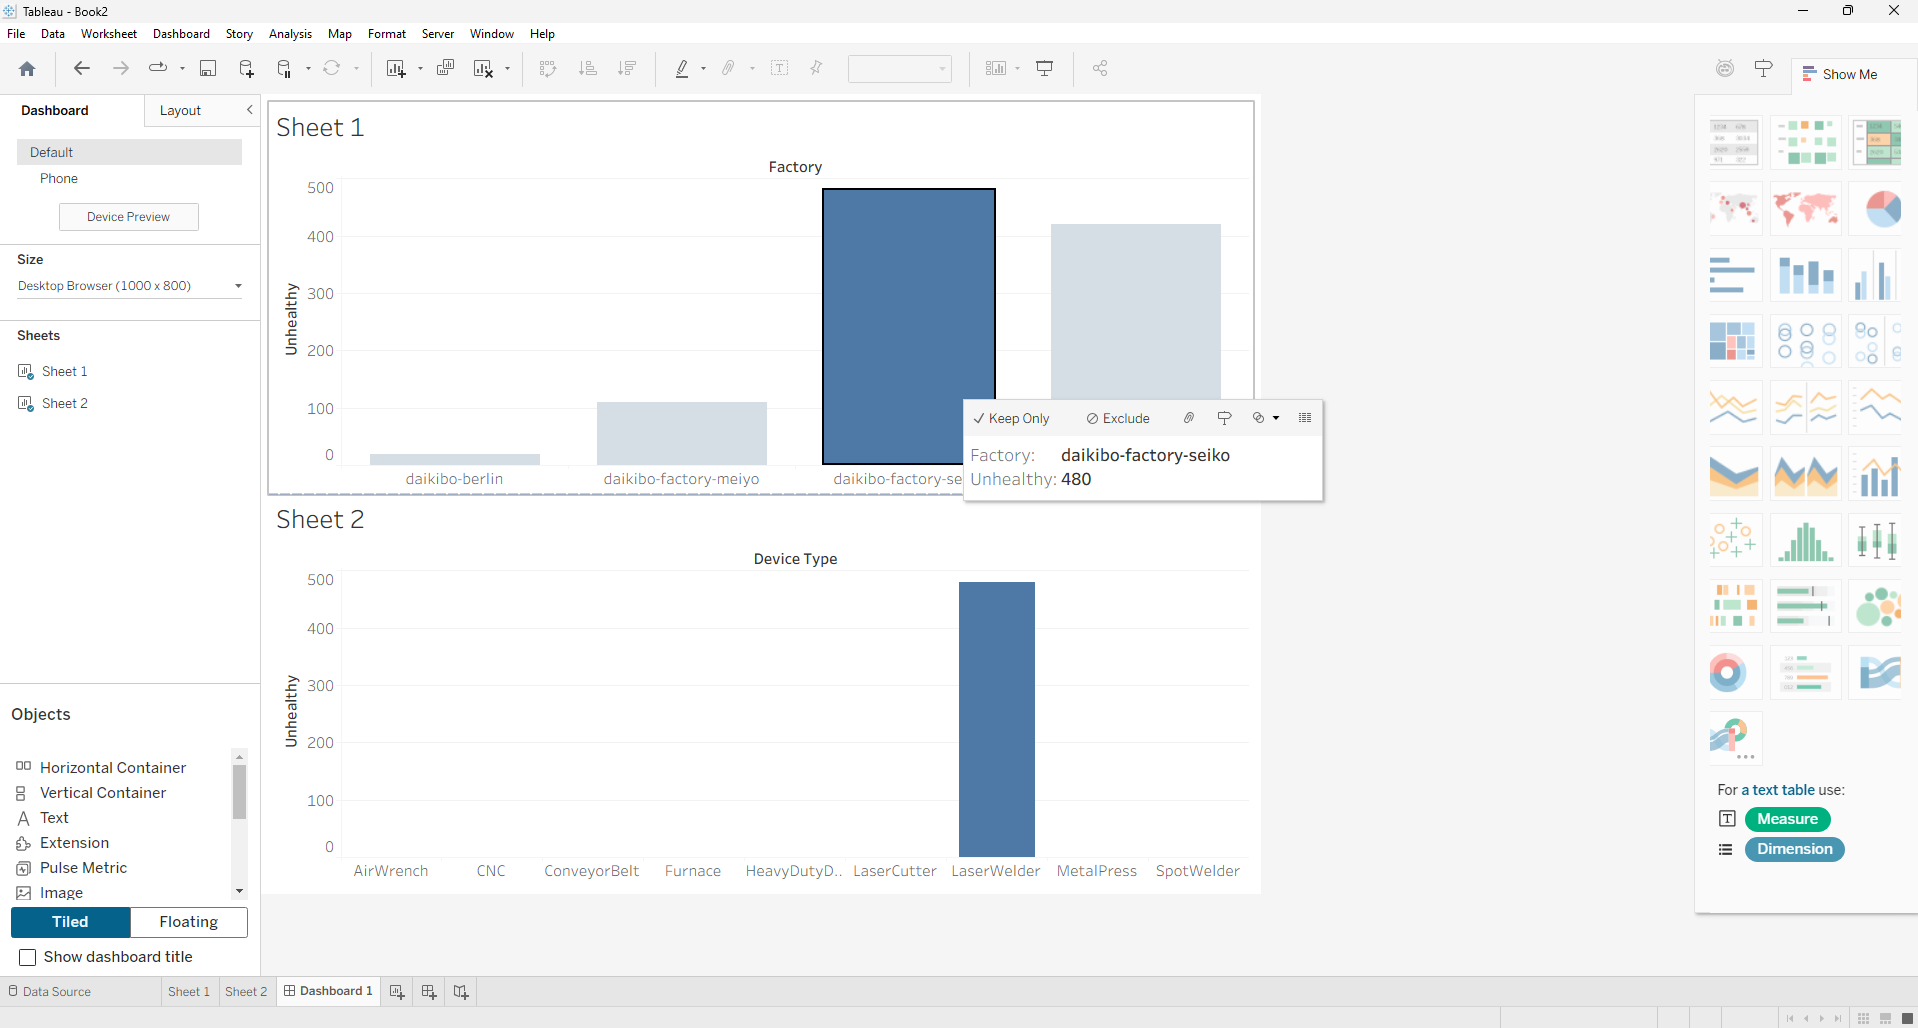

What the dashboard file says about the page in this screenshot:
{"tool":"tableau","page":{"name":"Dashboard 1","canvas":[1000,800],"ordinal":0},"visuals":[{"type":"worksheet","title":"Sheet 1","mark":"Automatic","rows":["Calculation_0362614533189634"],"cols":["factory"],"box":[8,8,984,392]},{"type":"worksheet","title":"Sheet 2","mark":"Automatic","rows":["Calculation_0362614533189634"],"cols":["deviceType"],"box":[8,400,984,392]}]}

Visuals, with their boxes on the page's 1000x800 design canvas (x1, y1, x2, y2). These are canvas units, not pixel positions in the 1918x1028 screenshot, which may show the page scaled, cropped or inside an application window:
"Sheet 1" worksheet: bbox=[8, 8, 992, 400]
"Sheet 2" worksheet: bbox=[8, 400, 992, 792]
